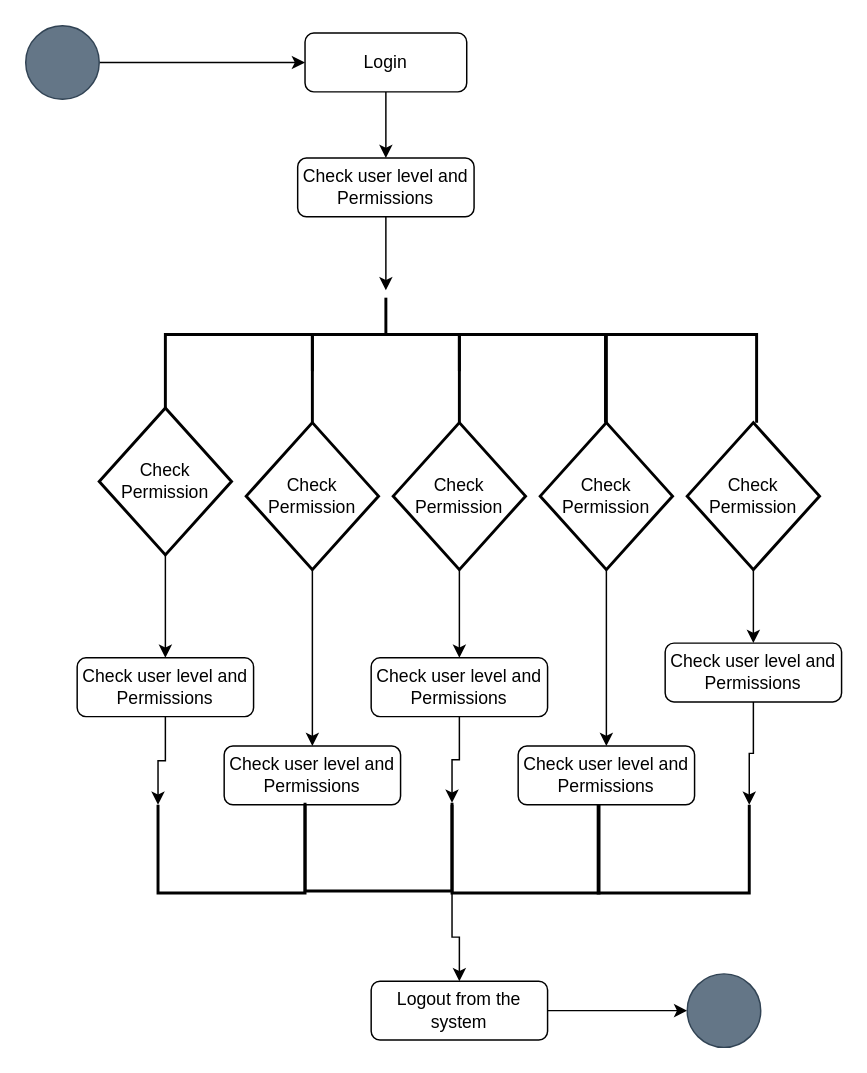
This 867x1073 diagram has some shape labels left out. The shapes that lost their labels are listed below. From the top down, each one's centre as x and y in pixels, then its label:
the point at 61,61: Start
the point at 723,1009: End
